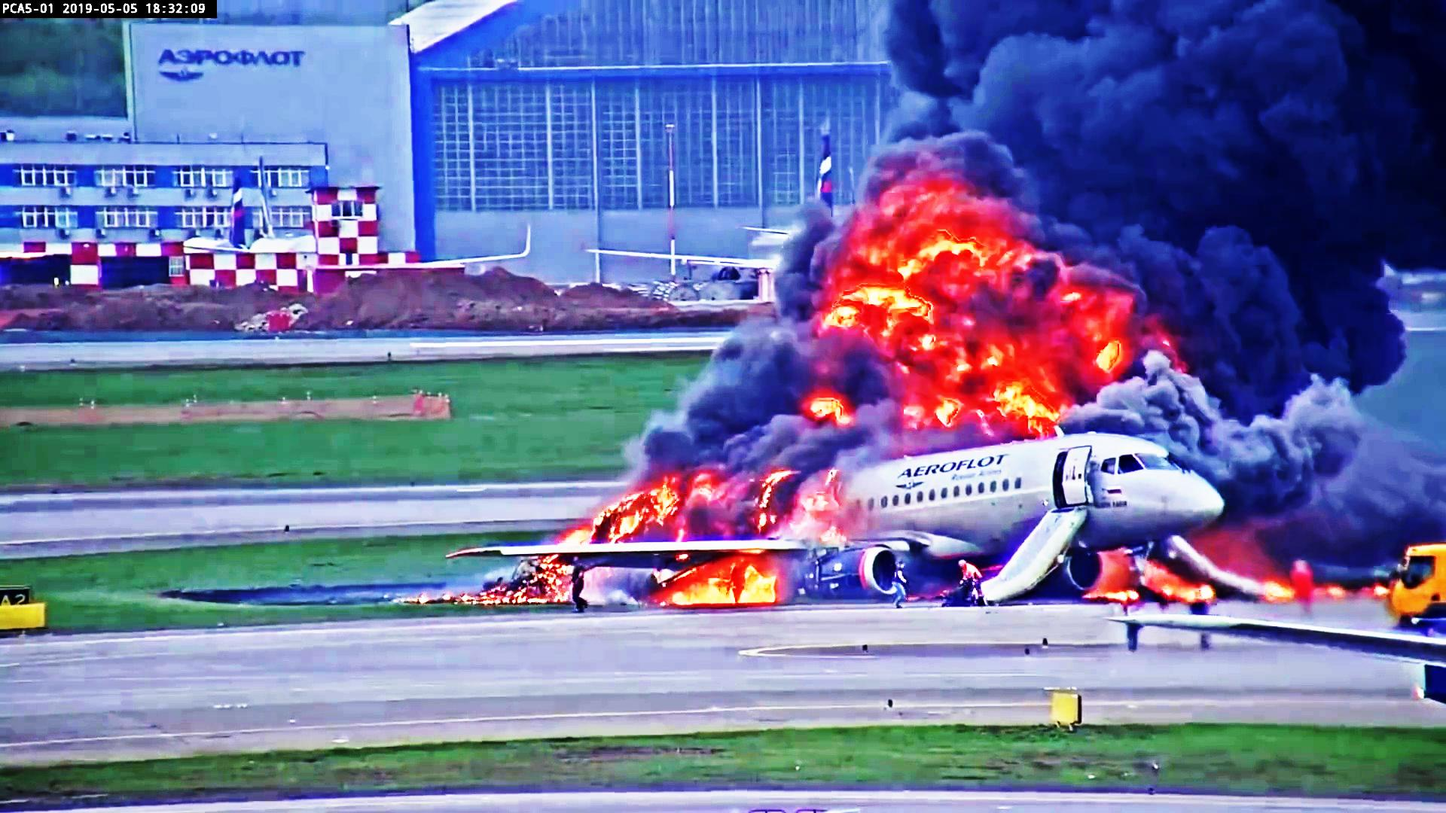fire: (853, 206, 1025, 407), (607, 492, 691, 541), (686, 572, 767, 609)
smoke: (1020, 0, 1422, 349)
